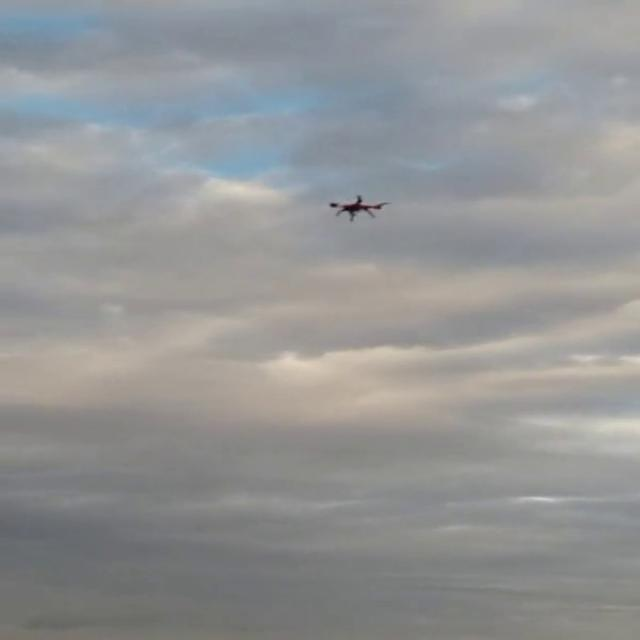drone: (323, 192, 393, 223)
